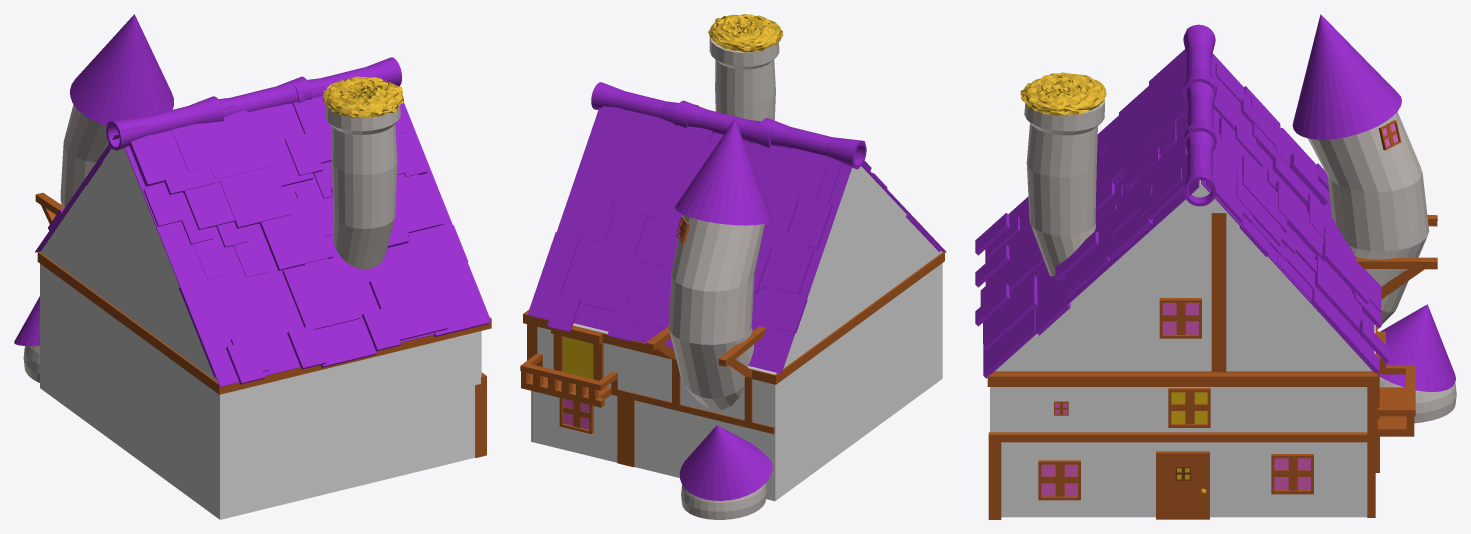
Rendered from magic_shop.fbx.
3 views of the same model, side by side, from view 1: azimuth 30°, elevation 25°; view 2: azimuth 150°, elevation 25°; view 3: azimuth 270°, elevation 25° (orthographic). The views are drawn at different scales.
Parts seen in each view (by area): view 1: base, Cube.091, tower.001, roof_cone, frame, Cube.067, Cube.082, Cube.062, Cube.085, Cube.088, Cube.092, tower (+26 smaller); view 2: base, tower, frame, Cube.045, roof_cone, roof_cone.001, tower.001, Cube.015, Cylinder.001, Cube.036, Cube.042, Cube.037 (+29 smaller); view 3: base, frame, tower, tower.001, roof_cone, roof_cone.001, Cube.091, Cube.104, Torus, Cube.067, Cylinder, Cube.045 (+43 smaller).
Part boxes in pixels (bbox=[...]): base: bbox=[40, 137, 481, 519]; Cube.091: bbox=[124, 84, 490, 386]; tower.001: bbox=[325, 104, 400, 269]; roof_cone: bbox=[70, 14, 173, 125]; frame: bbox=[35, 192, 491, 457]; Cube.067: bbox=[369, 267, 447, 340]; Cube.082: bbox=[282, 257, 361, 329]; Cube.062: bbox=[259, 196, 333, 270]; Cube.085: bbox=[194, 110, 268, 179]; Cube.088: bbox=[220, 154, 291, 228]; Cube.092: bbox=[426, 262, 489, 336]; tower: bbox=[60, 104, 108, 208]; base: bbox=[532, 166, 942, 501]; tower: bbox=[669, 214, 764, 410]; frame: bbox=[520, 251, 944, 467]; Cube.045: bbox=[557, 108, 856, 373]; roof_cone: bbox=[675, 119, 771, 225]; roof_cone.001: bbox=[679, 425, 772, 500]; tower.001: bbox=[709, 37, 779, 121]; Cube.015: bbox=[574, 245, 640, 311]; Cylinder.001: bbox=[757, 118, 866, 169]; Cube.036: bbox=[623, 262, 671, 328]; Cube.042: bbox=[633, 156, 700, 217]; Cube.037: bbox=[760, 225, 811, 293]; base: bbox=[990, 180, 1375, 517]; frame: bbox=[987, 213, 1437, 519]; tower: bbox=[1308, 112, 1429, 328]; tower.001: bbox=[1024, 99, 1104, 276]; roof_cone: bbox=[1292, 14, 1401, 139]; roof_cone.001: bbox=[1379, 304, 1455, 391]; Cube.091: bbox=[985, 115, 1199, 376]; Cube.104: bbox=[1156, 451, 1209, 519]; Torus: bbox=[1020, 72, 1106, 117]; Cube.067: bbox=[983, 275, 1037, 351]; Cylinder: bbox=[1183, 123, 1216, 206]; Cube.045: bbox=[1201, 53, 1374, 371].
Bounding box in the file's own units: 1669 × 2141 × 2313.
